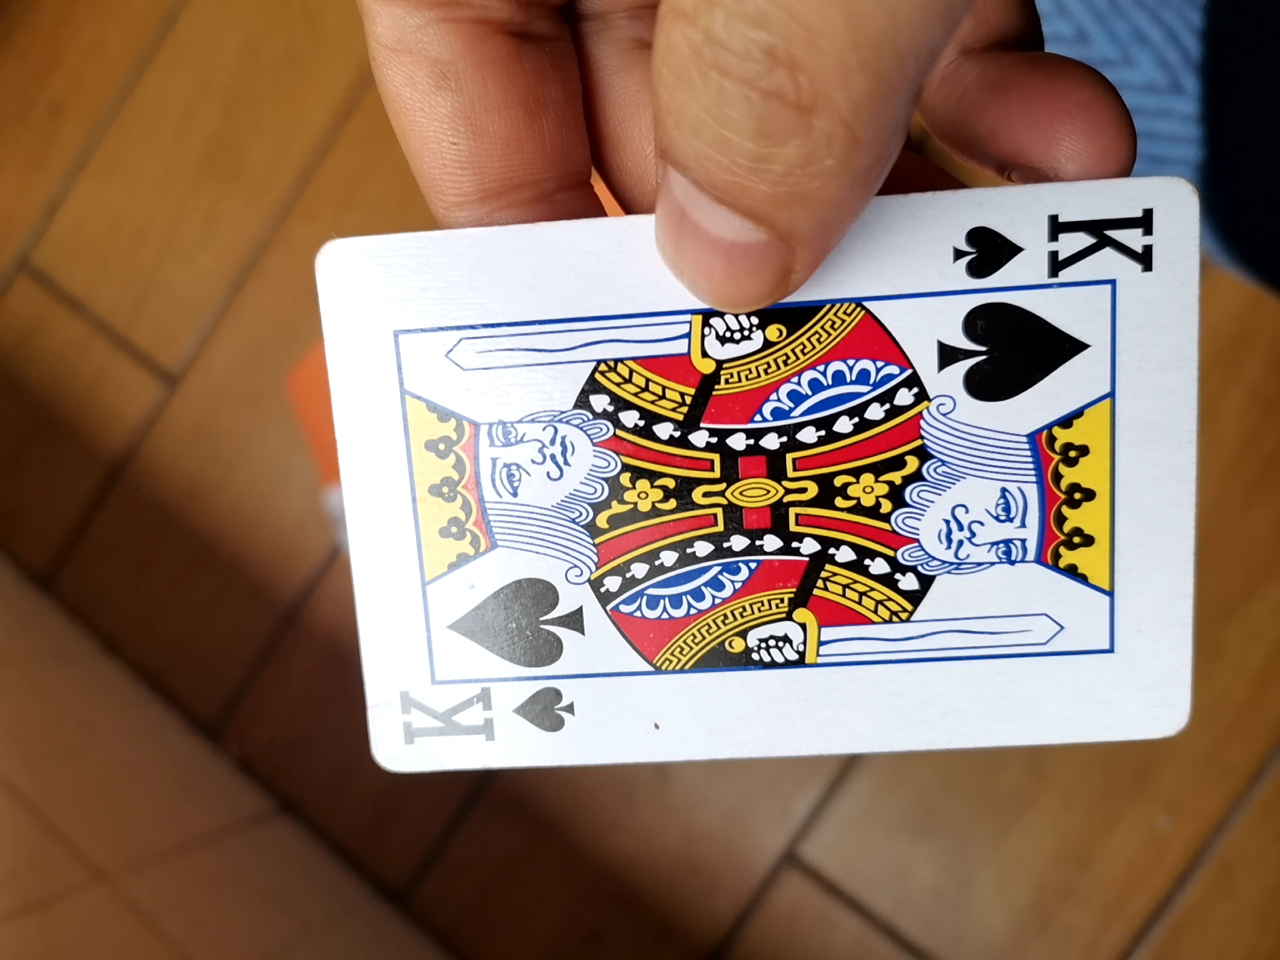ht k: (304, 176, 1185, 782)
